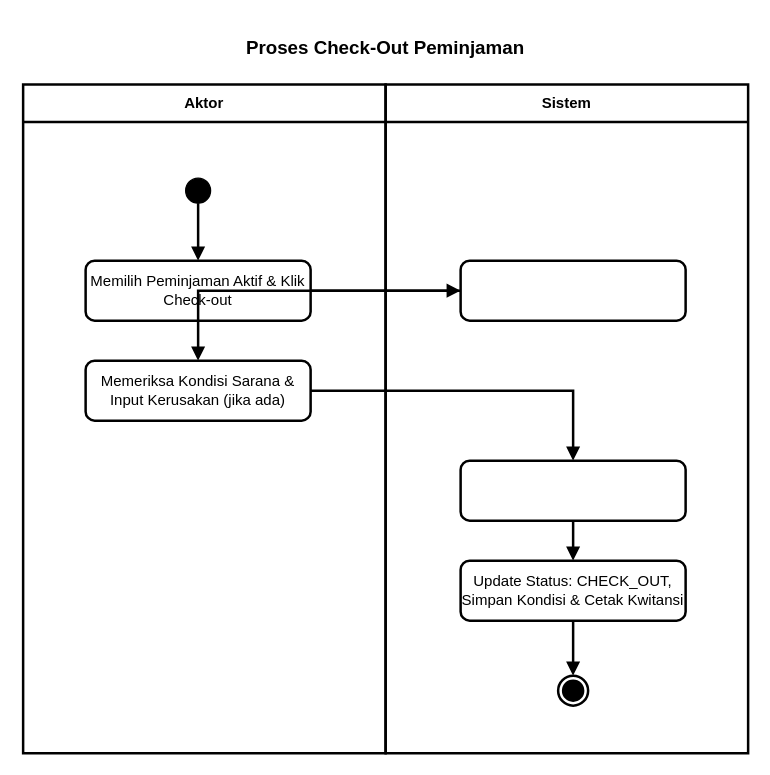
Some shapes in this 770 by 775 pixel diagram are drawn without their labels. Here are the shapes that lost their labels. From the top down, the centre of each, then its label:
point (572, 290): Menampilkan Form Check-out
point (572, 490): Menghitung Biaya Tambahan & Denda
